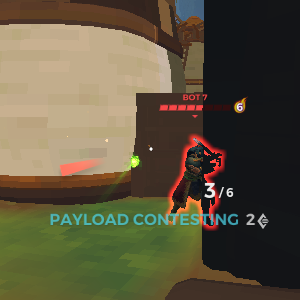model: (165, 137, 225, 231)
